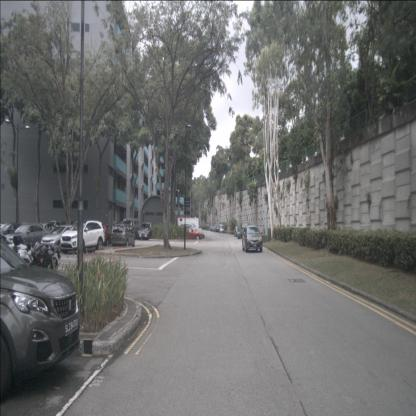vehicle-car: (0, 238, 80, 402), (60, 219, 107, 255), (2, 223, 51, 252), (40, 225, 84, 253), (0, 222, 29, 248), (111, 223, 135, 248), (242, 225, 262, 253), (95, 224, 117, 246), (121, 218, 140, 240), (176, 226, 204, 240), (138, 222, 154, 240), (240, 221, 251, 238), (234, 225, 243, 237), (219, 224, 224, 234), (216, 224, 220, 232), (214, 225, 218, 232)
vehicle-motorcycle: (28, 241, 61, 285)
